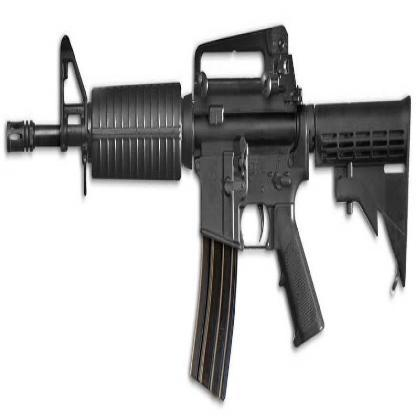gun: (1, 11, 413, 399)
